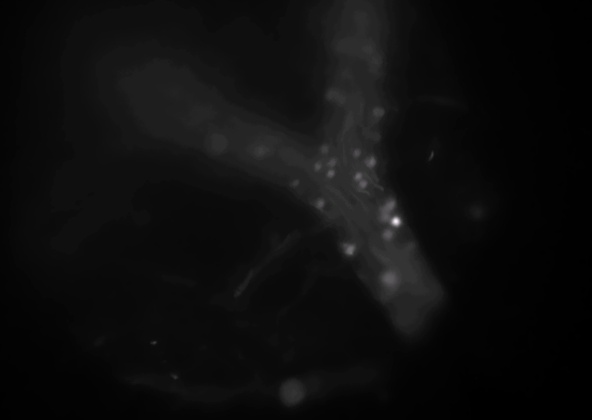cell: (390, 214, 404, 228), (372, 106, 386, 120), (350, 147, 364, 161), (365, 156, 379, 170), (318, 141, 332, 155), (310, 160, 324, 174), (325, 156, 339, 170), (327, 89, 341, 103), (350, 169, 364, 183), (333, 92, 347, 106), (356, 179, 370, 193), (341, 244, 355, 258), (382, 271, 396, 285), (380, 228, 394, 242), (386, 198, 400, 212), (378, 209, 392, 223), (379, 203, 393, 217), (312, 198, 326, 212), (288, 174, 302, 188), (253, 144, 267, 158), (207, 134, 221, 148), (358, 43, 372, 57), (369, 54, 383, 68), (333, 38, 347, 52), (324, 166, 338, 180), (368, 130, 382, 144)
